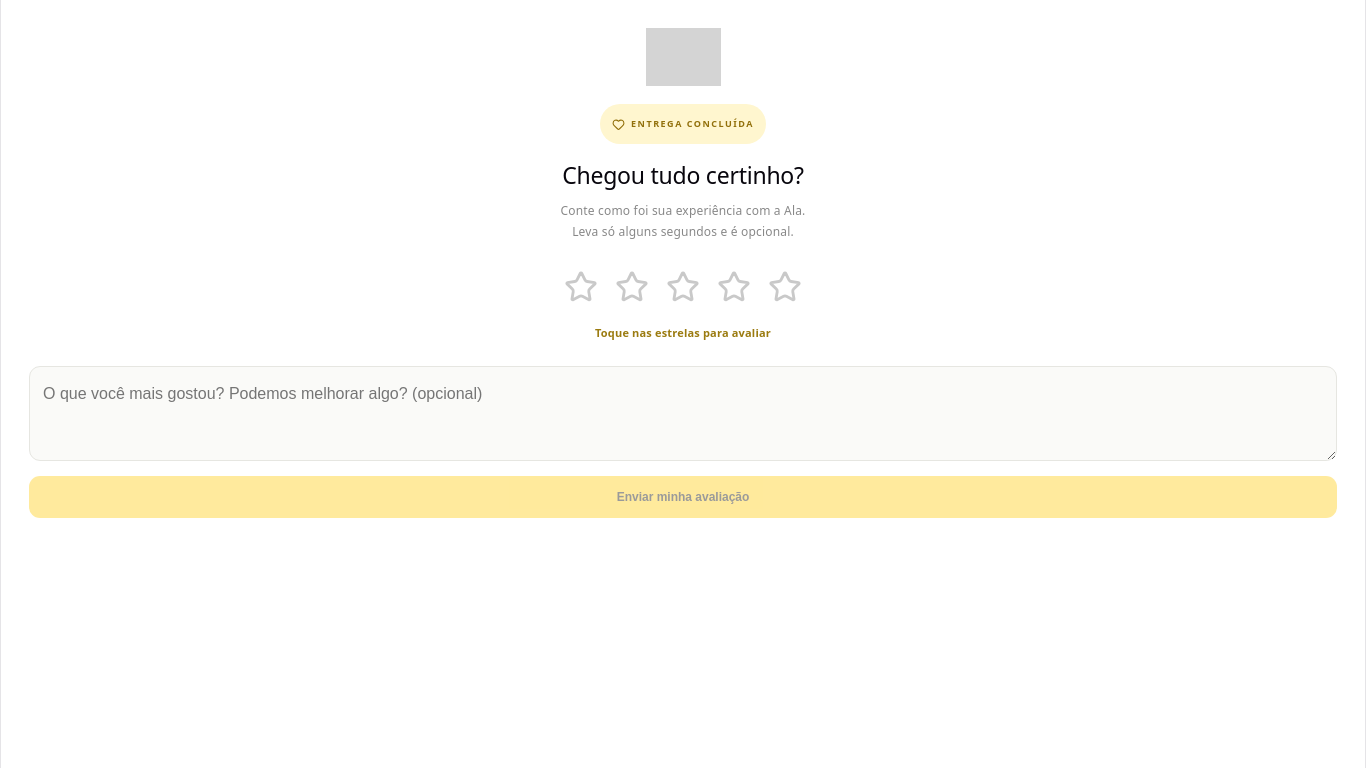
avaliação envia estrelas e comentário sem publicar outra informação do pedido
The image size is (1366, 768).
Click the button named "5 estrelas": (785, 287) [764,266,806,308]
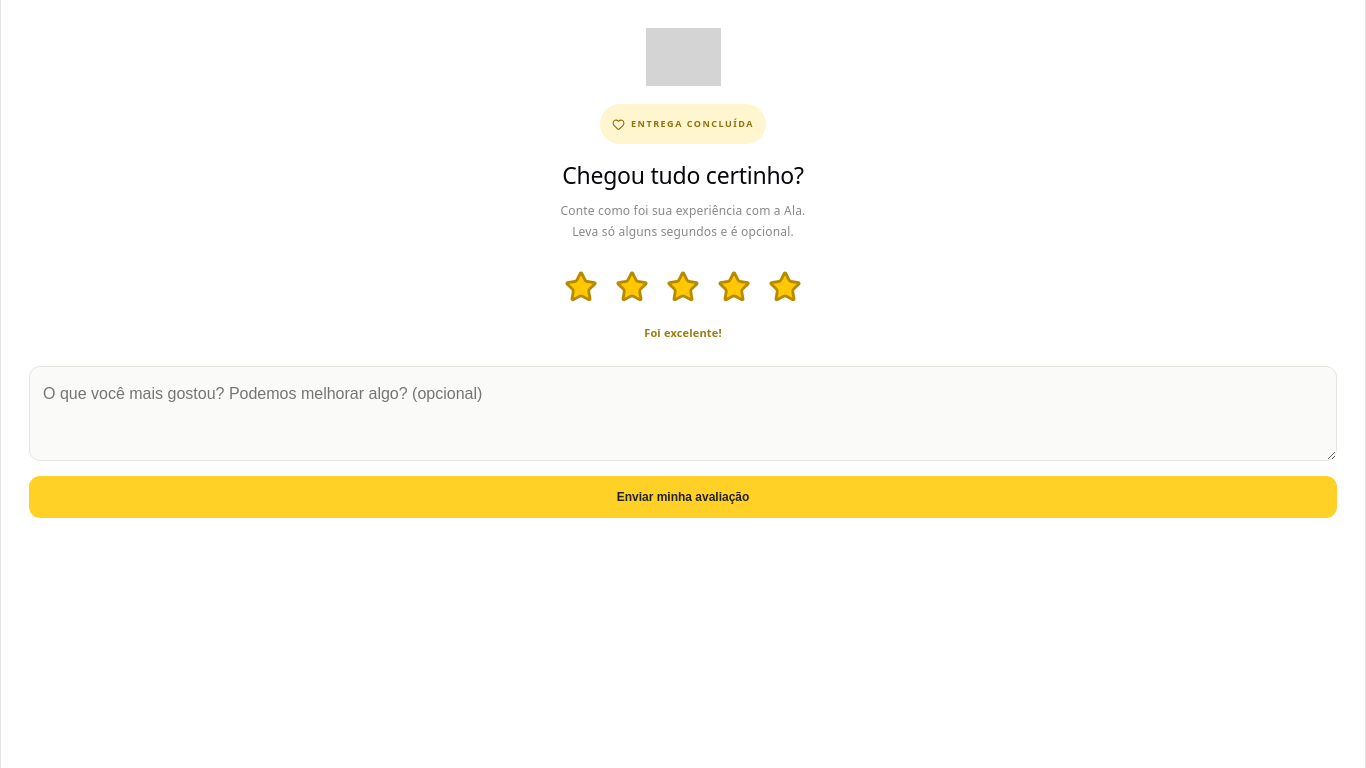
In the text box named "Comentário sobre a entrega": (683, 414) [29,366,1337,461], type "Muito bom!"
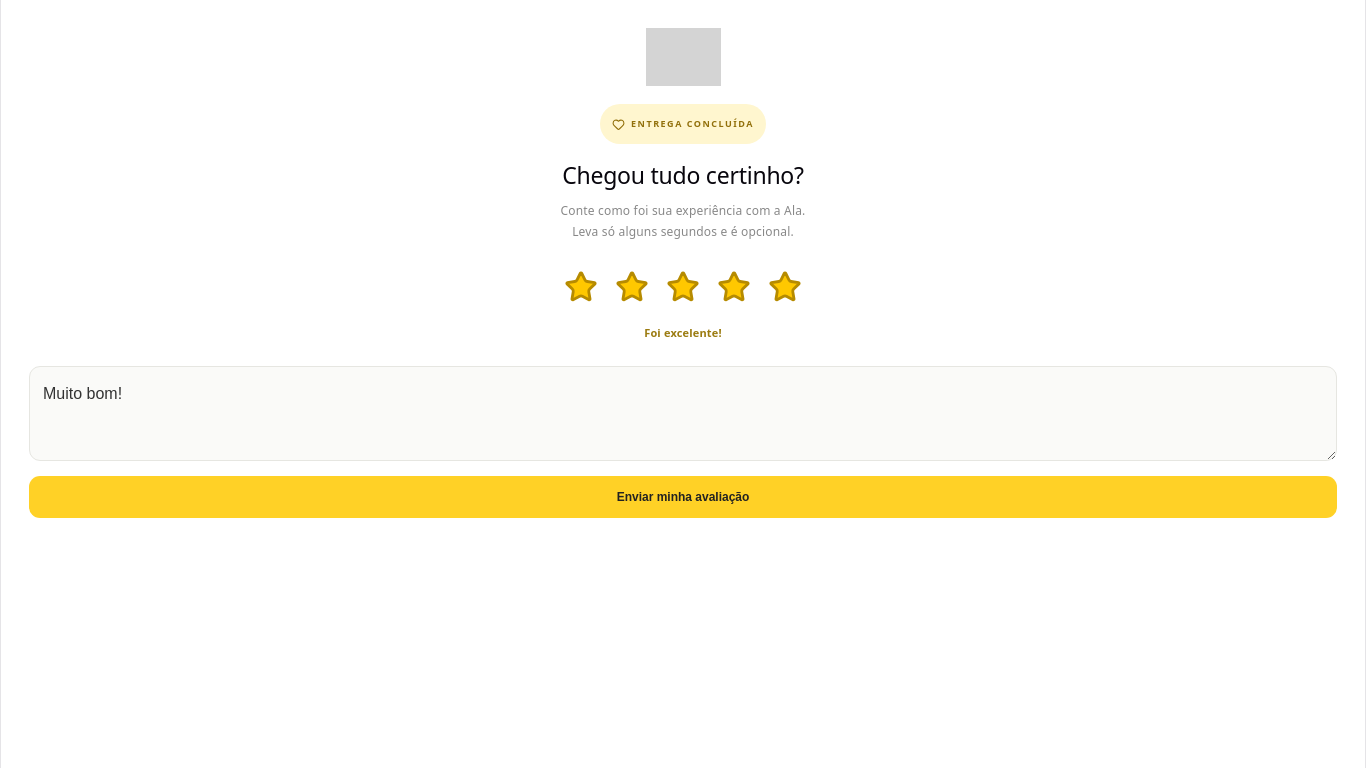
Click the button "Enviar minha avaliação": (683, 497) [29,476,1337,518]
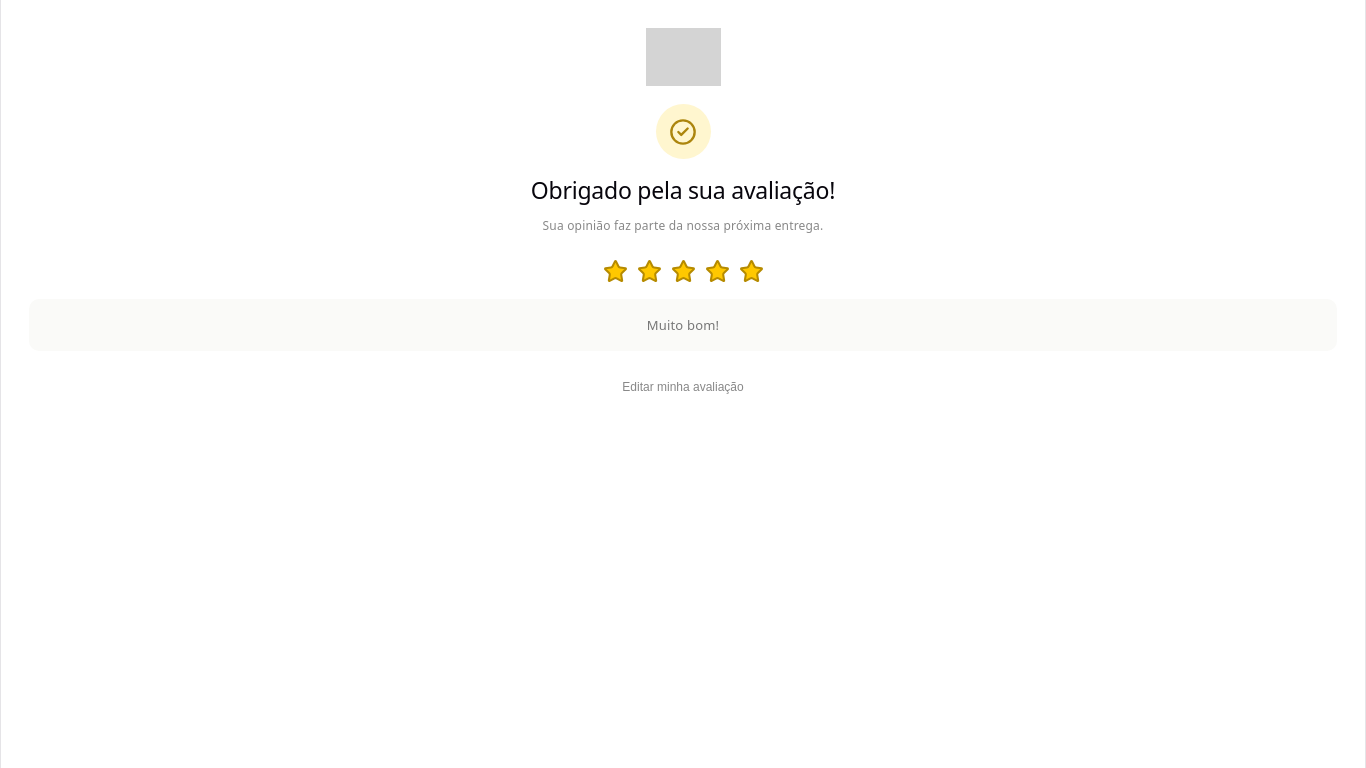
Now the heading "Obrigado pela sua avaliação!" is shown, box [531,174,835,206]
